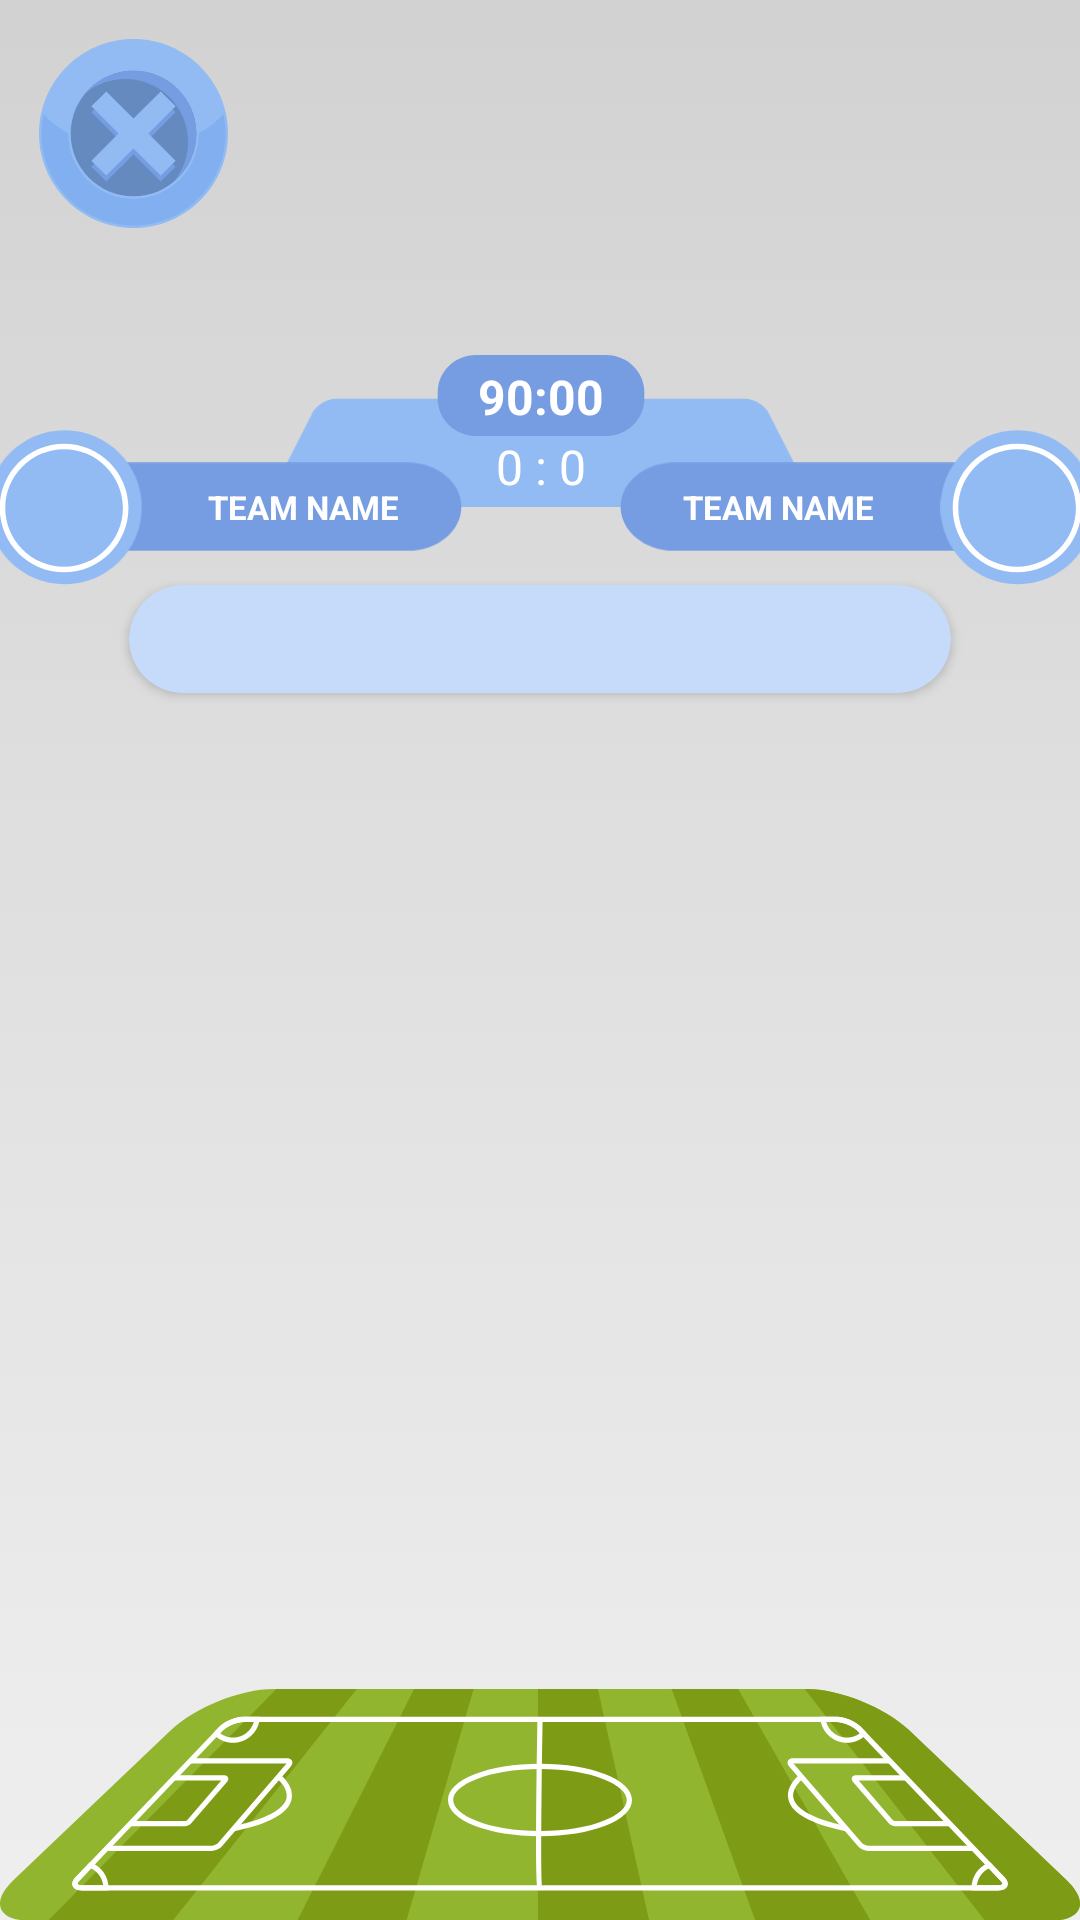

Point at icon controls on the screen. Image size 1080w x 1920h, points as (x,y).
close: (133,133)
